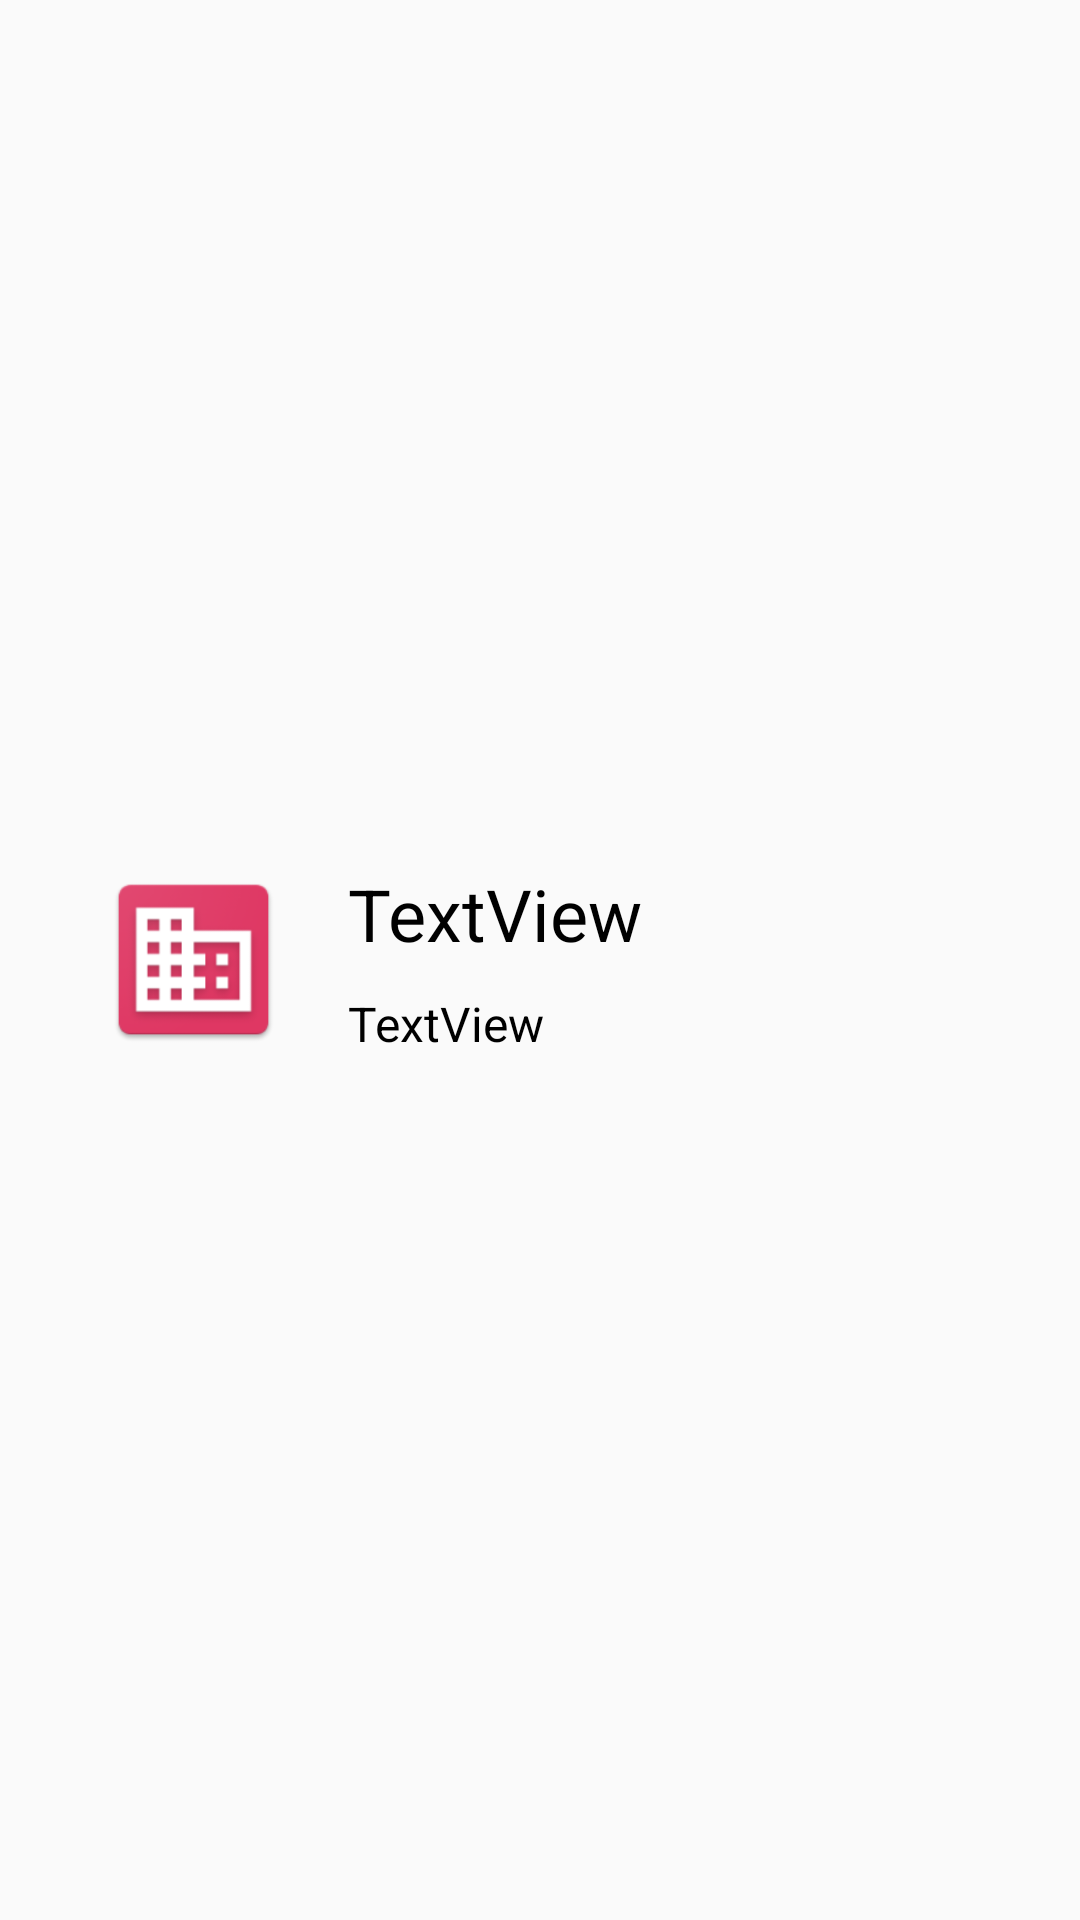

Named icons in this screenshot (1080px x 1920px) and their centers, point (x, y):
companies: point (194, 961)
